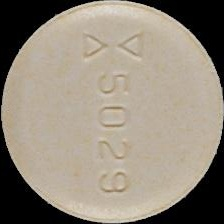68258-8907: (0, 0, 224, 224)
